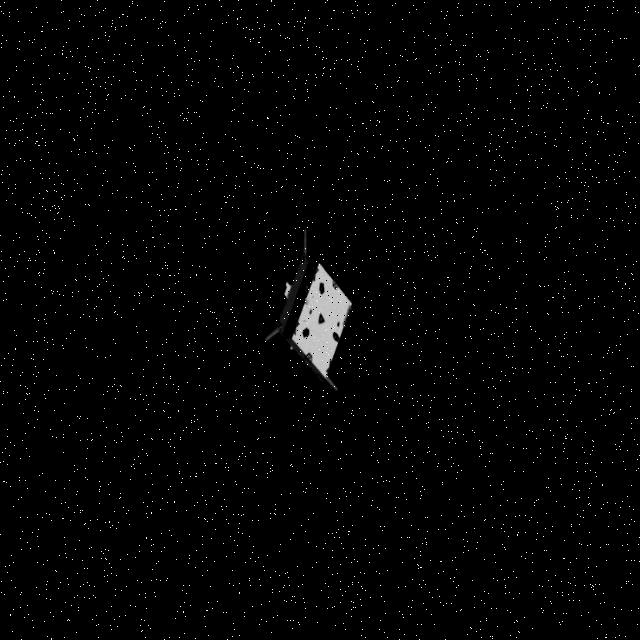medium_debris: (262, 242, 366, 396)
